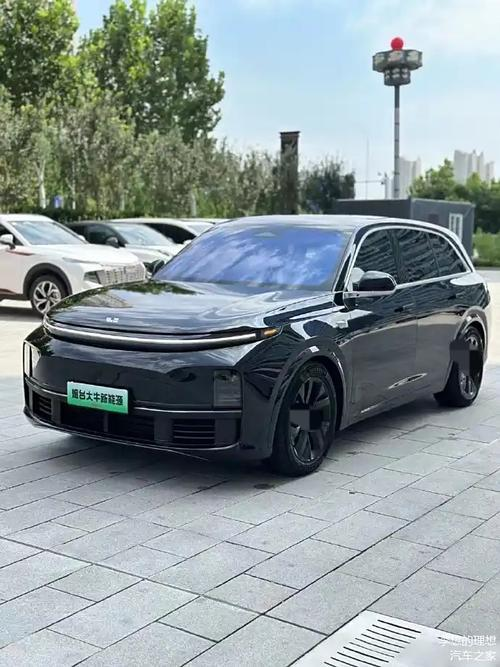Li Auto: (105, 317, 120, 324)
